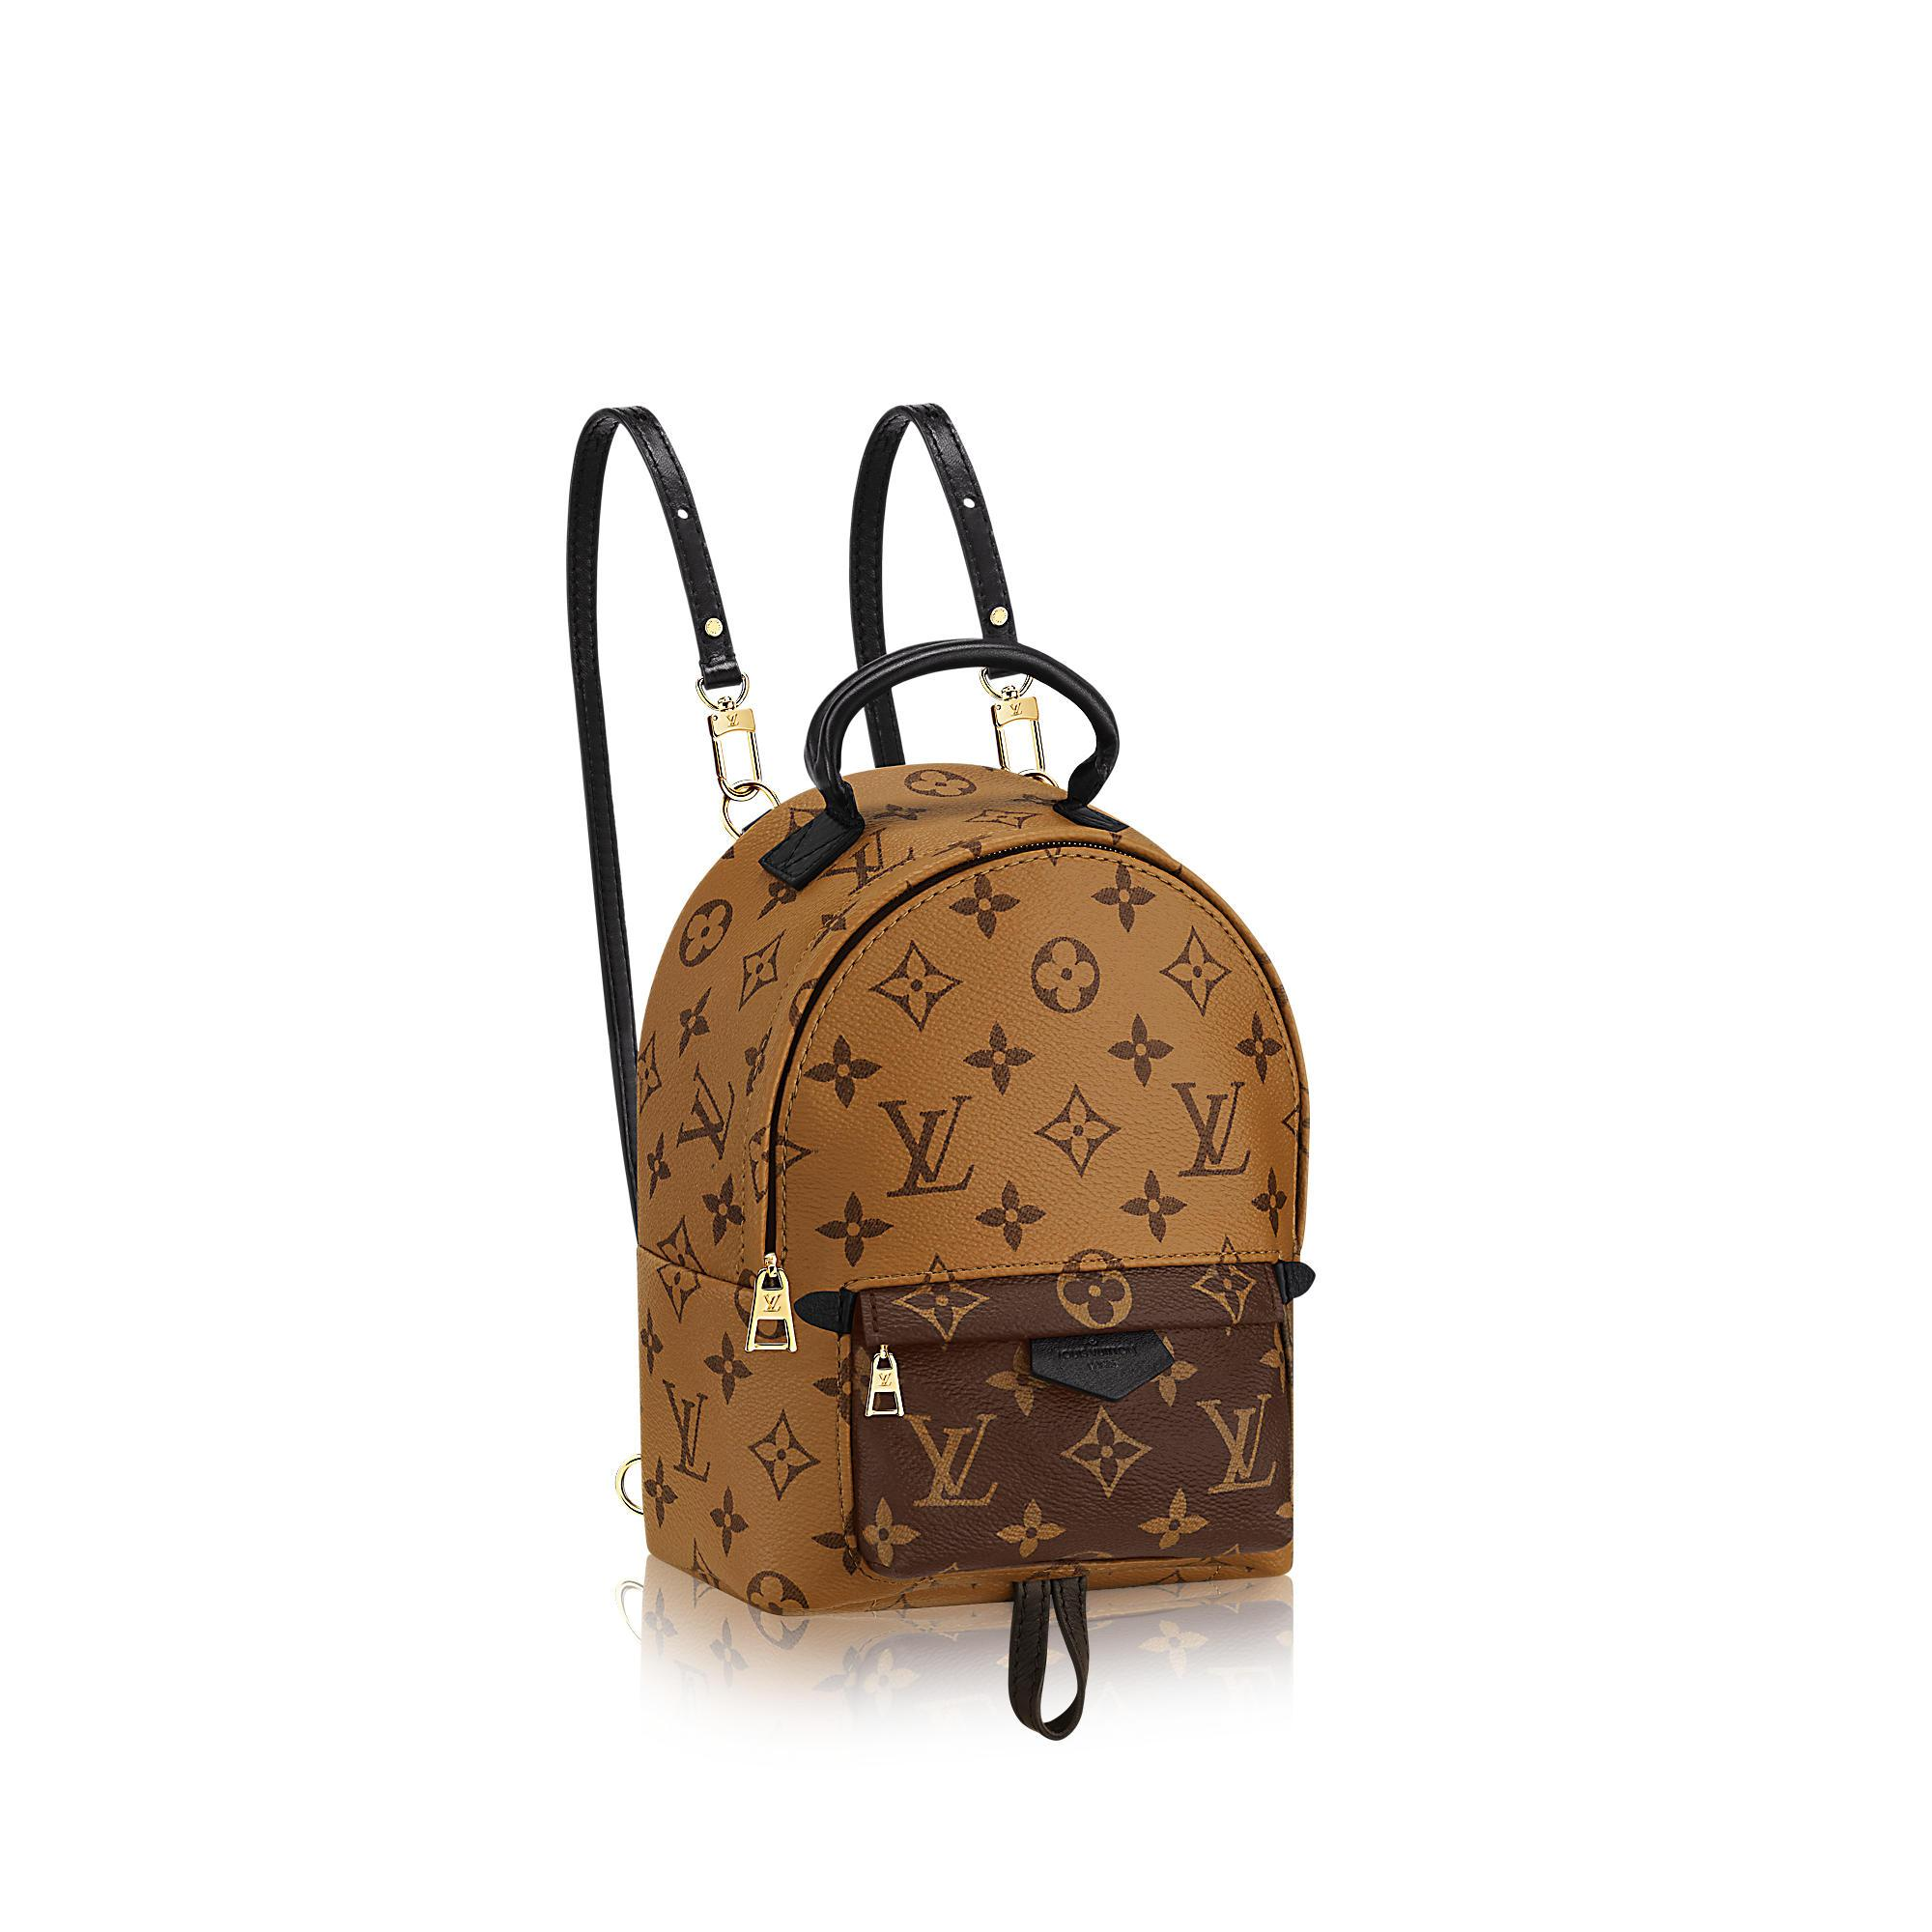LOUIS-VUITTON: (881, 1092, 980, 1200), (899, 1410, 1007, 1509), (1162, 1074, 1256, 1184), (1194, 1385, 1283, 1499), (671, 1063, 738, 1161), (655, 1375, 713, 1486), (816, 824, 911, 886)
